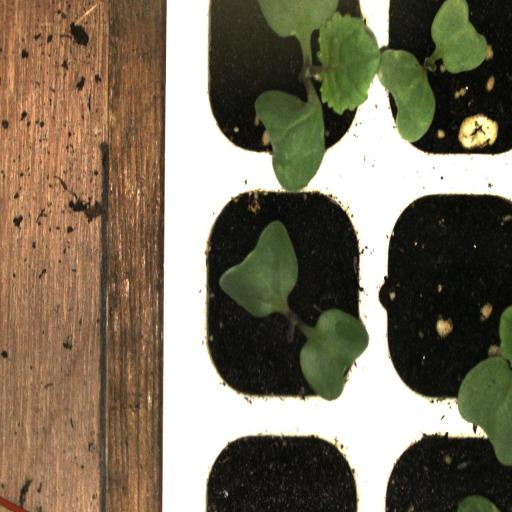seedling: (188, 178, 374, 412), (188, 0, 375, 181)
